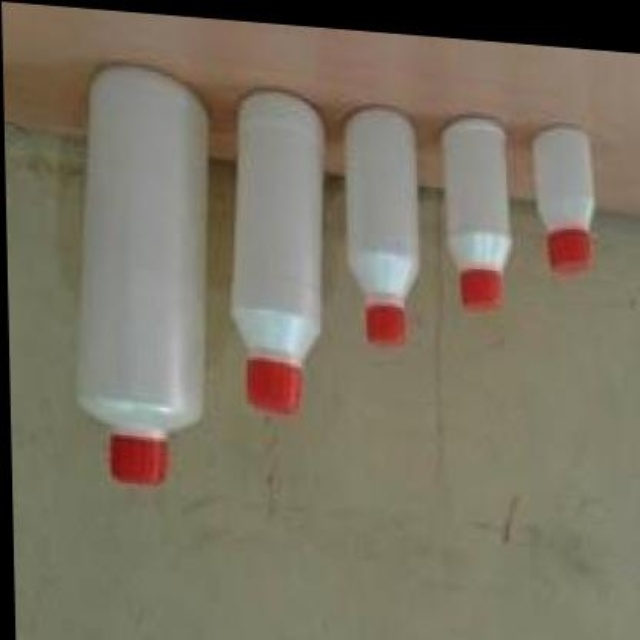trash: (77, 66, 208, 485), (77, 66, 206, 483), (229, 91, 325, 417), (232, 92, 322, 414), (343, 106, 418, 343), (440, 117, 511, 309), (531, 125, 592, 271)
